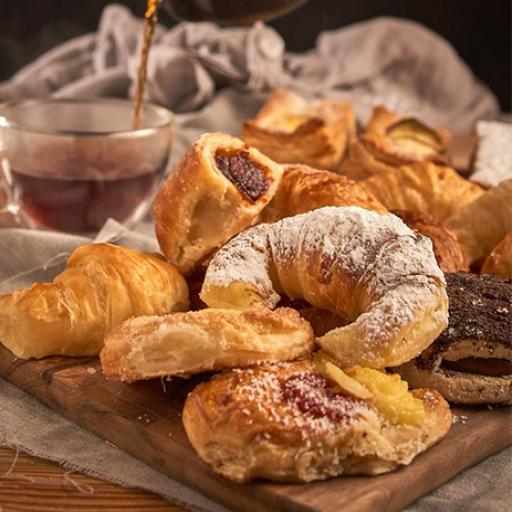bolleria: (202, 207, 447, 367), (183, 360, 451, 482), (0, 244, 189, 358), (154, 134, 283, 273)
